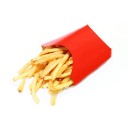frenchfries: (12, 45, 76, 104)
